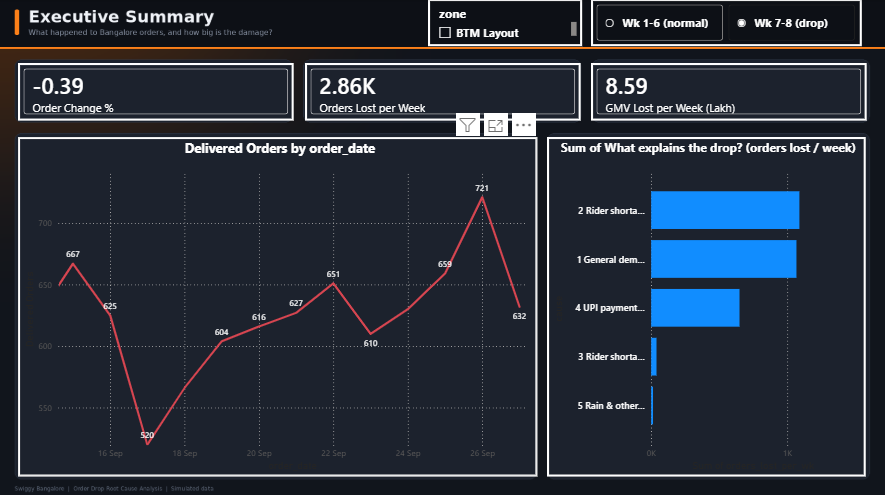

Layout of this report page (visuals, bound fields, positions):
{"tool":"powerbi","page":{"name":"Page 1","canvas":[1280,720],"ordinal":0},"visuals":[{"type":"slicer","fields":{"Values":["daily_zone.zone"]},"box":[619.3,0,222.2,68.1],"z":0},{"type":"advancedSlicerVisual","fields":{"Values":["daily_zone.period"]},"box":[853.3,0,389.6,68.1],"z":1000},{"type":"cardVisual","title":"\tDelivered orders vs baseline","fields":{"Data":["daily_zone.Order Change %"]},"box":[28.1,91.9,397,83],"z":2000},{"type":"cardVisual","title":"\tDelivered orders vs baseline","fields":{"Data":["daily_zone.Orders Lost per Week"]},"box":[441.5,91.9,397,83],"z":3000},{"type":"cardVisual","title":"\tDelivered orders vs baseline","fields":{"Data":["daily_zone.GMV Lost per Week (Lakh)"]},"box":[853.3,91.9,397,83],"z":4000},{"type":"lineChart","fields":{"Y":["daily_zone.Delivered Orders"],"Category":["daily_zone.order_date"]},"box":[28.1,198.5,748.1,488.9],"z":5000},{"type":"barChart","title":"Sum of What explains the drop? (orders lost / week)","fields":{"Category":["waterfall.cause"],"Y":["Sum(waterfall.orders_lost_per_wk)"]},"box":[791.1,198.5,459.3,488.9],"z":6000}]}

Visuals, with their boxes in screenshot pixels (x1, y1, x2, y2), scaled from the page's 1280x720 canvas onto the 885x495 screenshot:
slicer - daily_zone.zone: x1=428 y1=0 x2=582 y2=47
advancedSlicerVisual - daily_zone.period: x1=590 y1=0 x2=859 y2=47
"	Delivered orders vs baseline" cardVisual: x1=19 y1=63 x2=294 y2=120
"	Delivered orders vs baseline" cardVisual: x1=305 y1=63 x2=580 y2=120
"	Delivered orders vs baseline" cardVisual: x1=590 y1=63 x2=864 y2=120
lineChart - daily_zone.Delivered Orders x daily_zone.order_date: x1=19 y1=136 x2=537 y2=473
"Sum of What explains the drop? (orders lost / week)" barChart: x1=547 y1=136 x2=865 y2=473
